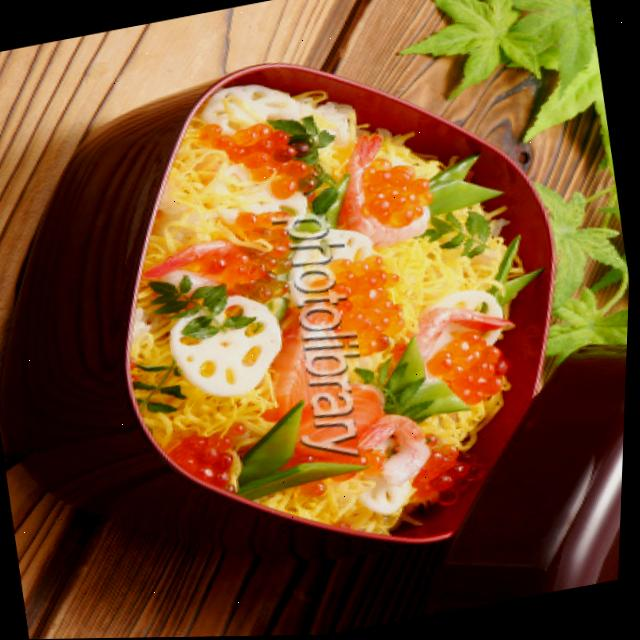寿司卷物: (0, 10, 635, 616)
